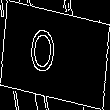O_S: (40, 26, 70, 84)
